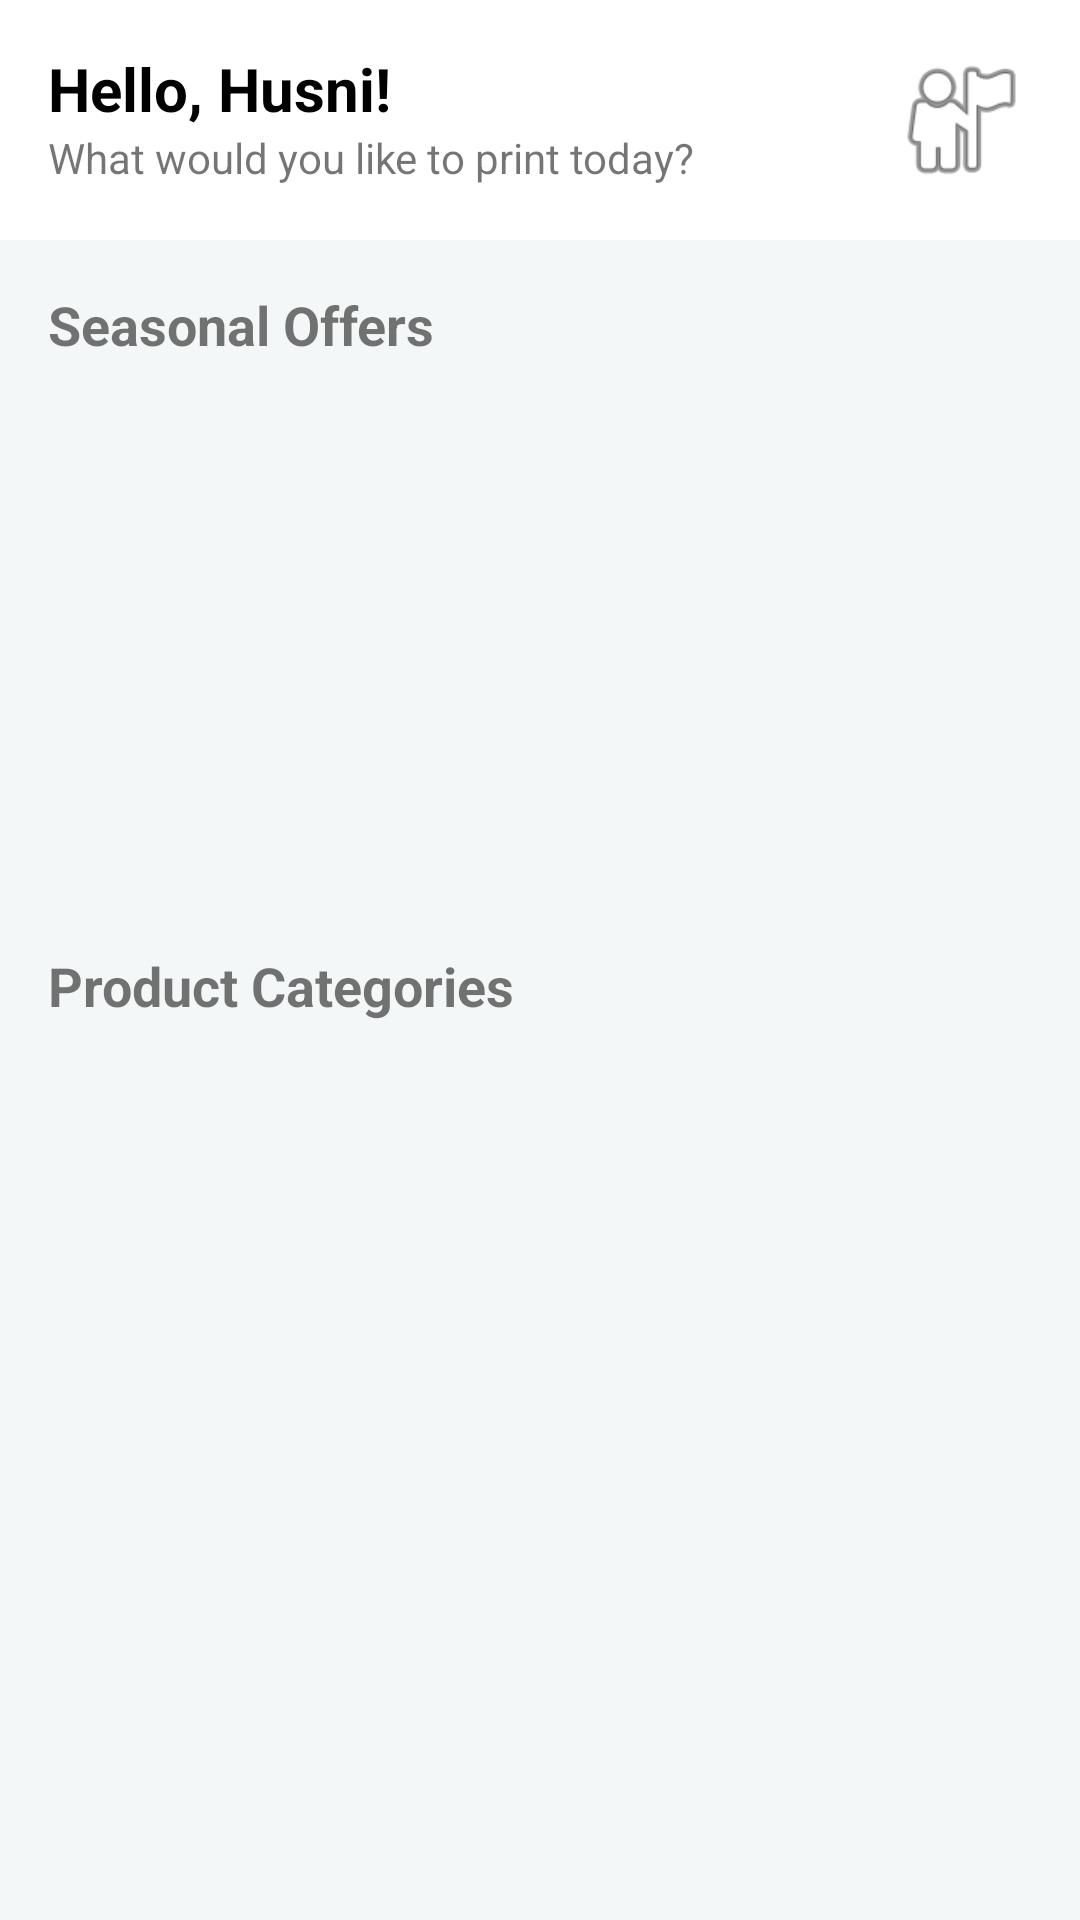

Where icons sit on this 1080w x 1920h app screen, as (x1, y1, x2, y2):
myplaces: (907, 66, 1016, 174)
